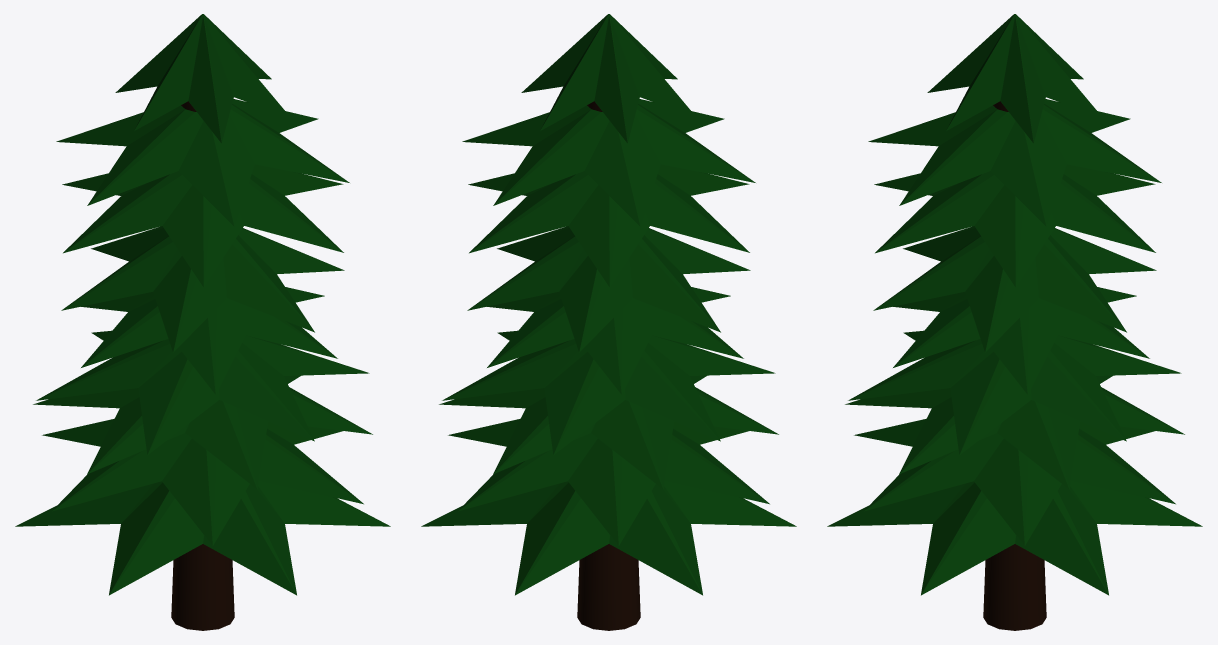
File: pine02.fbx
3 views of the same model, side by side, from view 1: azimuth 30°, elevation 25°; view 2: azimuth 150°, elevation 25°; view 3: azimuth 270°, elevation 25° (orthographic).
Visible parts, largest first — view 1: Cylinder001; view 2: Cylinder001; view 3: Cylinder001.
Boxes of the visible parts, left/top/right/bottom form: Cylinder001: left=15, top=14, right=390, bottom=630; Cylinder001: left=421, top=14, right=796, bottom=630; Cylinder001: left=827, top=14, right=1202, bottom=630.
Size of the model in its own units: 162 by 169 by 297.
